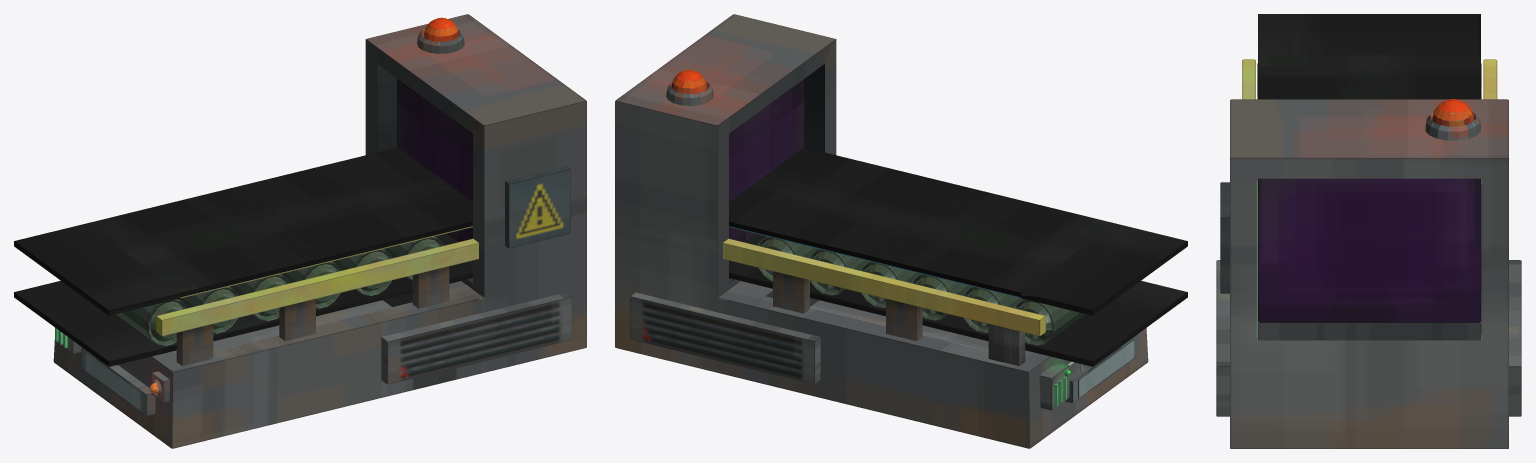
File: Conveyor_Belt_Connector.fbx
3 views of the same model, side by side, from view 1: azimuth 30°, elevation 25°; view 2: azimuth 150°, elevation 25°; view 3: azimuth 270°, elevation 25° (orthographic). The views are drawn at different scales.
Parts seen in each view (by area): view 1: cuboid_9, cuboid, cuboid_18, cuboid_1, cuboid_2, cuboid_19, cuboid_11, cylinder, cuboid_4, cuboid_21, cuboid_6, cylinder_4 (+6 smaller); view 2: cuboid_9, cuboid, cuboid_20, cuboid_1, cuboid_3, cuboid_11, cylinder, cuboid_5, cuboid_8, cuboid_7, cuboid_10, cylinder_4 (+6 smaller); view 3: cuboid_9, cuboid, cuboid_20, cuboid_18, cuboid_19, sphere, torus, cuboid_3, cuboid_2.
Part boxes in pixels (bbox=[...]): cuboid_9: bbox=[53, 14, 586, 448]; cuboid: bbox=[14, 147, 472, 315]; cuboid_18: bbox=[381, 292, 572, 384]; cuboid_1: bbox=[14, 233, 472, 366]; cuboid_2: bbox=[156, 238, 478, 335]; cuboid_19: bbox=[505, 166, 570, 248]; cuboid_11: bbox=[81, 347, 155, 415]; cylinder: bbox=[116, 299, 187, 345]; cuboid_4: bbox=[176, 324, 213, 366]; cuboid_21: bbox=[412, 266, 449, 308]; cuboid_6: bbox=[279, 299, 315, 341]; cylinder_4: bbox=[333, 249, 392, 295]; cuboid_9: bbox=[615, 14, 1148, 448]; cuboid: bbox=[729, 147, 1187, 315]; cuboid_20: bbox=[630, 292, 820, 383]; cuboid_1: bbox=[729, 233, 1187, 366]; cuboid_3: bbox=[723, 238, 1045, 335]; cuboid_11: bbox=[1065, 334, 1138, 402]; cylinder: bbox=[1014, 299, 1085, 345]; cuboid_5: bbox=[988, 324, 1025, 366]; cuboid_8: bbox=[773, 271, 809, 313]; cuboid_7: bbox=[886, 299, 922, 341]; cuboid_10: bbox=[1039, 362, 1069, 410]; cylinder_4: bbox=[809, 249, 868, 295]; cuboid_9: bbox=[1230, 99, 1508, 448]; cuboid: bbox=[1258, 14, 1480, 99]; cuboid_20: bbox=[1480, 260, 1521, 416]; cuboid_18: bbox=[1216, 260, 1258, 416]; cuboid_19: bbox=[1220, 182, 1229, 293]; sphere: bbox=[1432, 99, 1473, 129]; torus: bbox=[1425, 112, 1480, 140]; cuboid_3: bbox=[1483, 59, 1497, 99]; cuboid_2: bbox=[1242, 59, 1255, 99].
Size of the model in its own units: 284 by 158 by 137.
6 materials, 6 textured.
